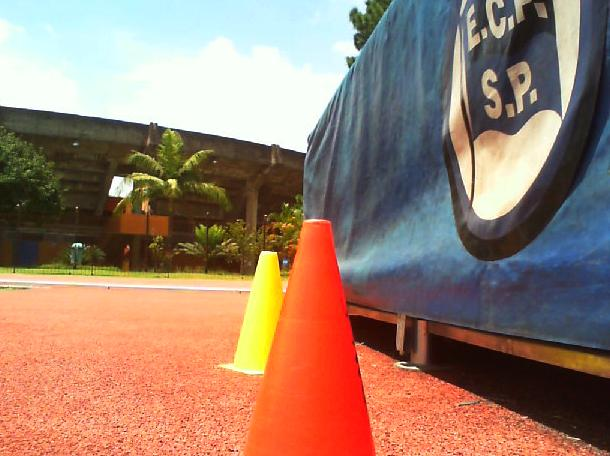0 cone: (240, 220, 376, 456), (214, 252, 284, 375)
